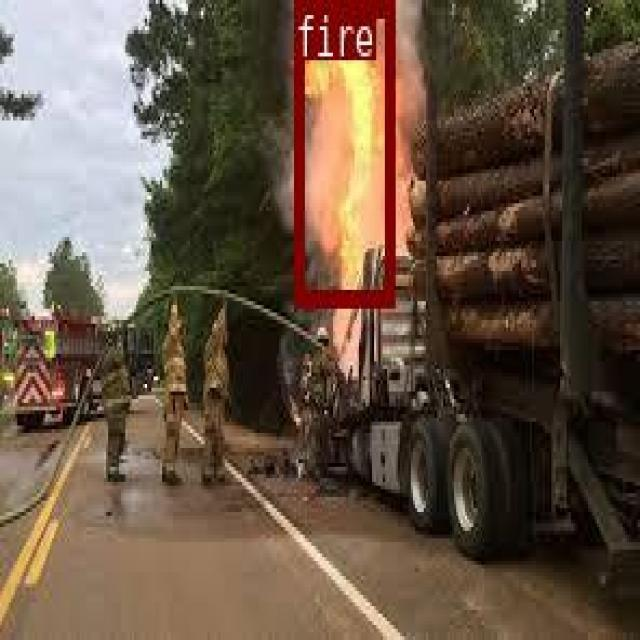fire: (293, 0, 392, 301)
